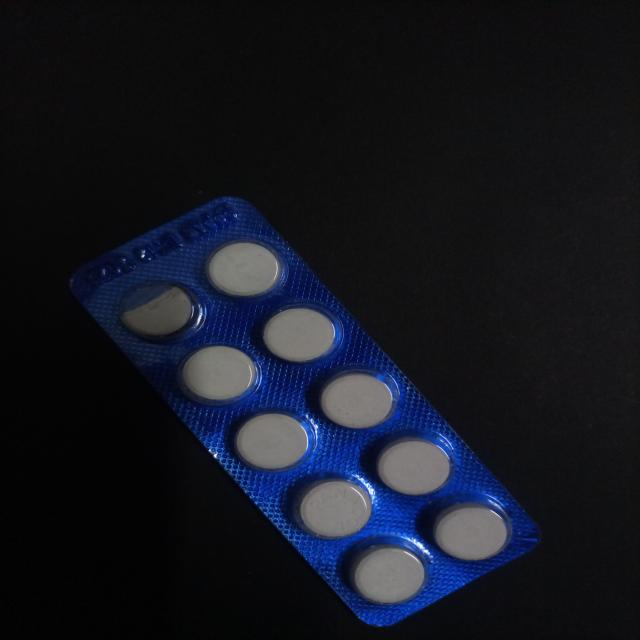defect: (114, 277, 207, 345)
